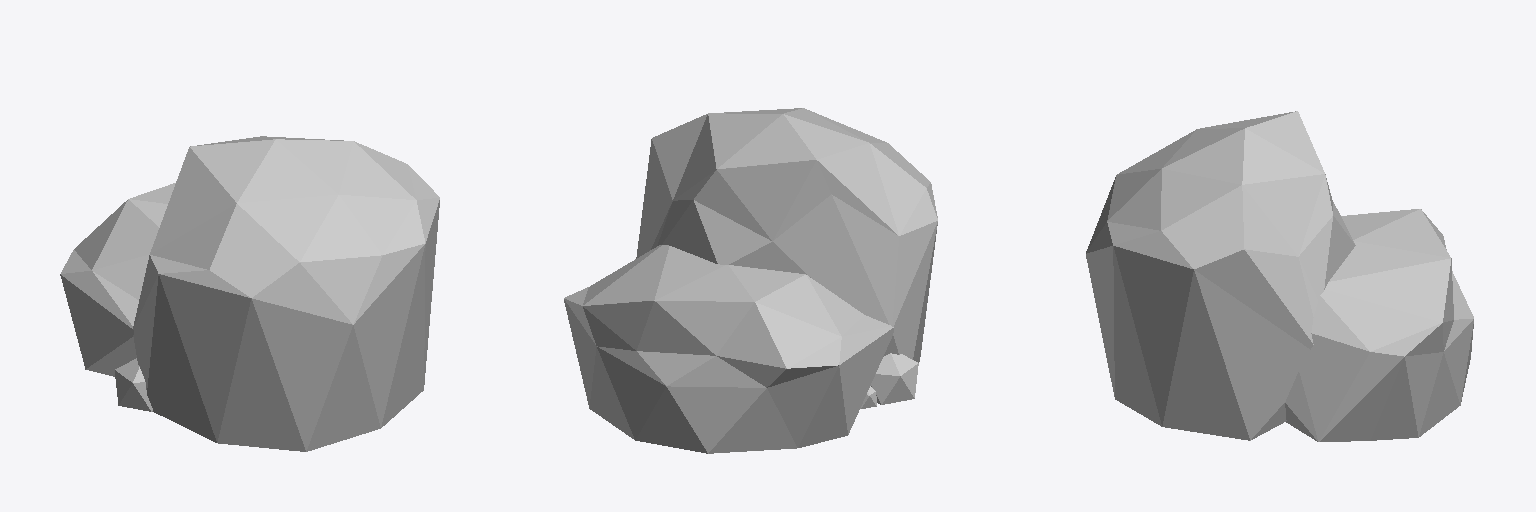
Rendered from rock.obj.
3 views of the same model, side by side, from view 1: azimuth 30°, elevation 25°; view 2: azimuth 150°, elevation 25°; view 3: azimuth 270°, elevation 25° (orthographic).
Parts seen in each view (by area): view 1: Icosphere_Icosphere.004; view 2: Icosphere_Icosphere.004; view 3: Icosphere_Icosphere.004.
Boxes of the visible parts, x1=… form: Icosphere_Icosphere.004: x1=60, y1=136, x2=439, y2=451; Icosphere_Icosphere.004: x1=564, y1=108, x2=937, y2=453; Icosphere_Icosphere.004: x1=1086, y1=111, x2=1473, y2=441.
Bounding box in the file's own units: 1.96 × 1.7 × 2.32.